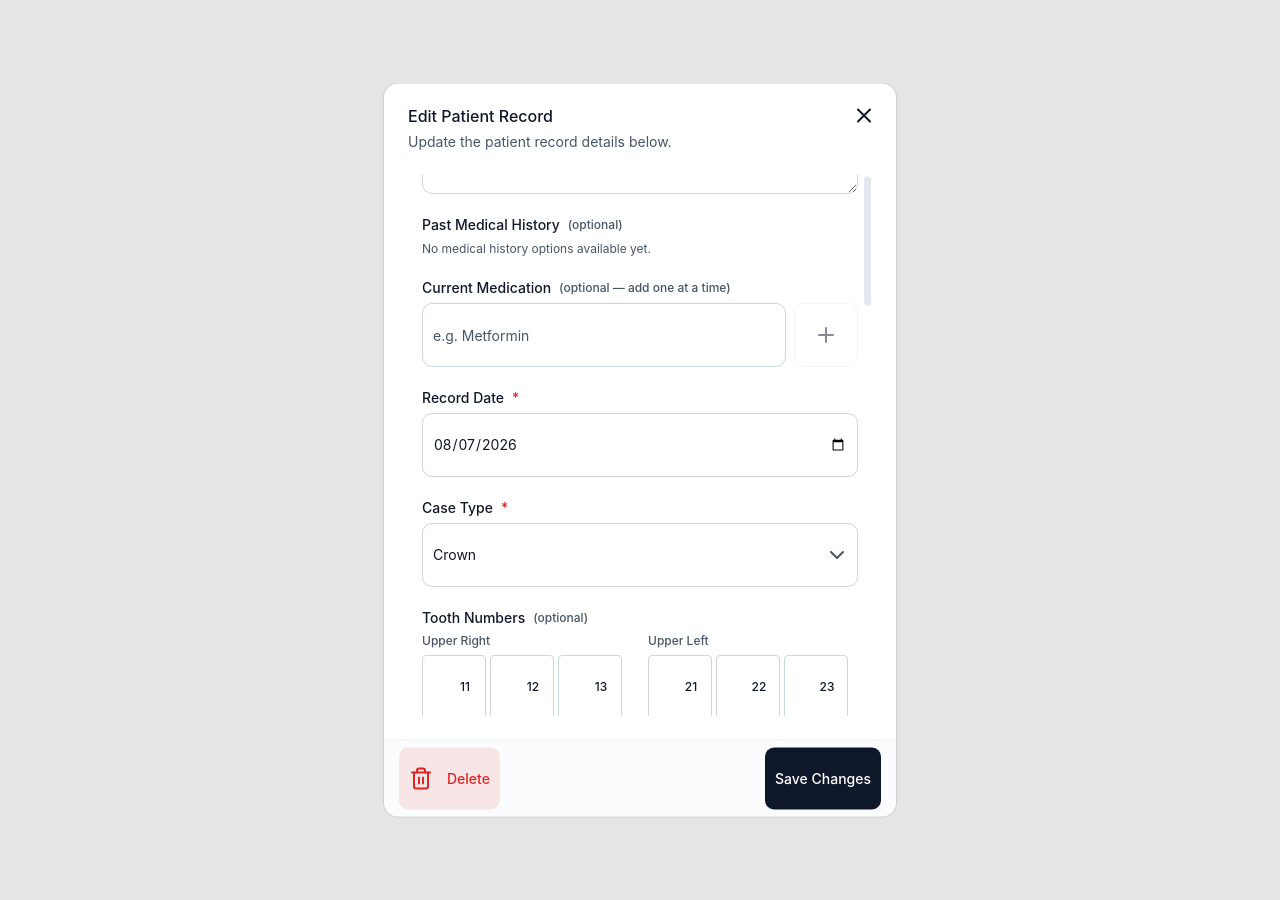
Test: Record Date in the shared form › prefills and updates the stored CASE date
(page scrolled)
Expected: the button "Save Changes" is enabled, [764,746,882,810]
Step 1. Type "2026-07-15" into the date field labelled "Record Date *" → (640, 446), box [422,414,858,478]
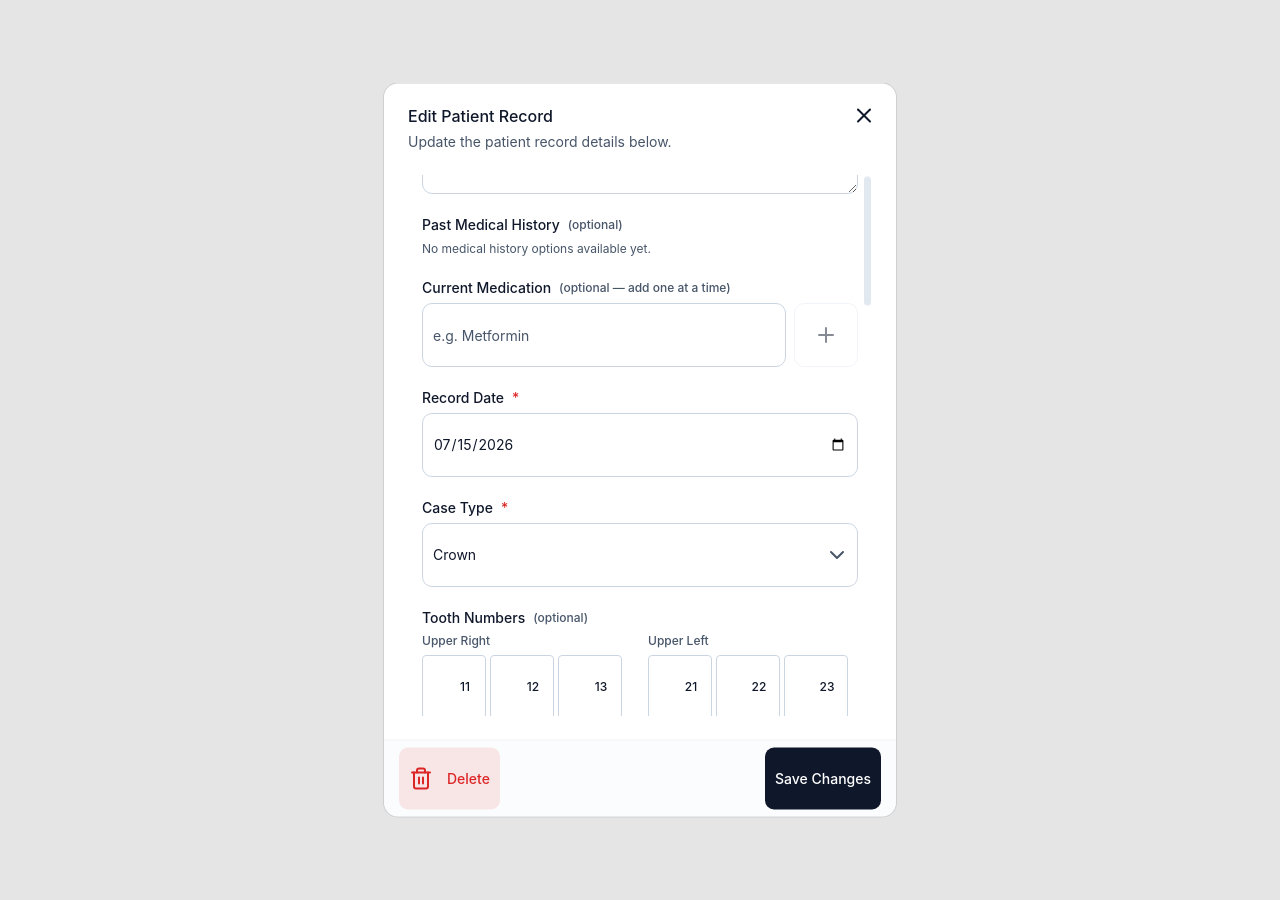
Step 2. Click the button "Save Changes" → click(823, 778), box [764,746,882,810]
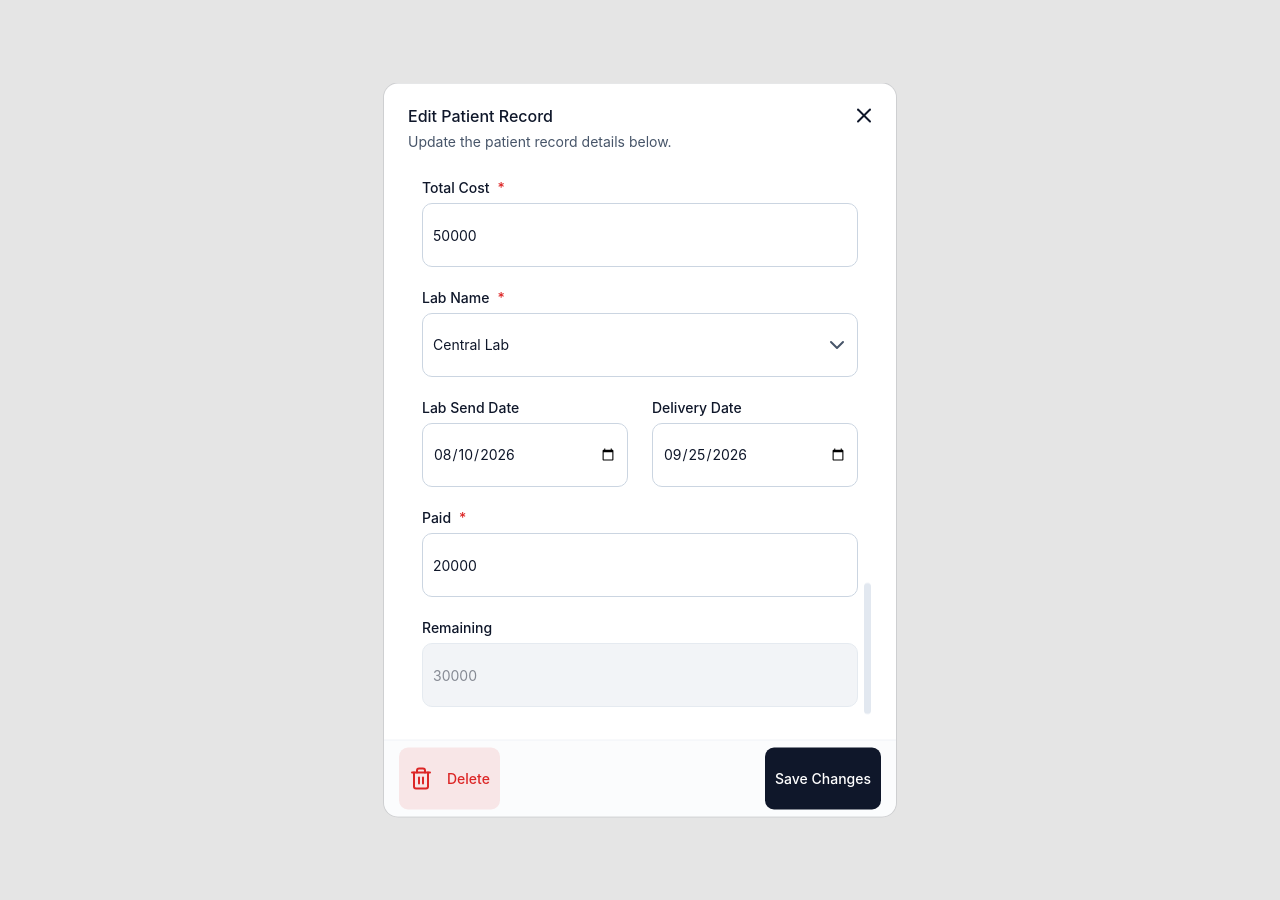
Now the date field labelled "Lab Send Date" holds "2026-08-10", box [422,424,628,488]
Now the date field labelled "Delivery Date" holds "2026-09-25", box [652,424,858,488]
